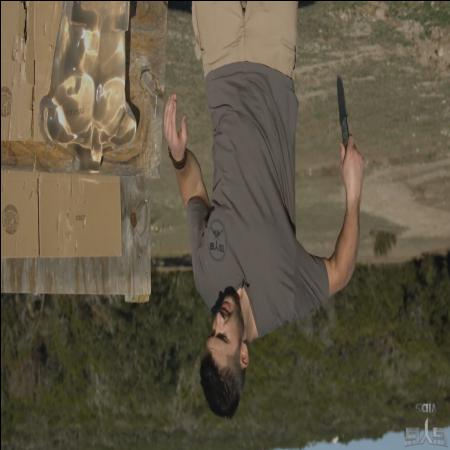long weapon: (330, 66, 367, 176)
